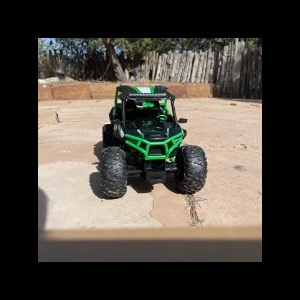polaris: (98, 84, 208, 199)
